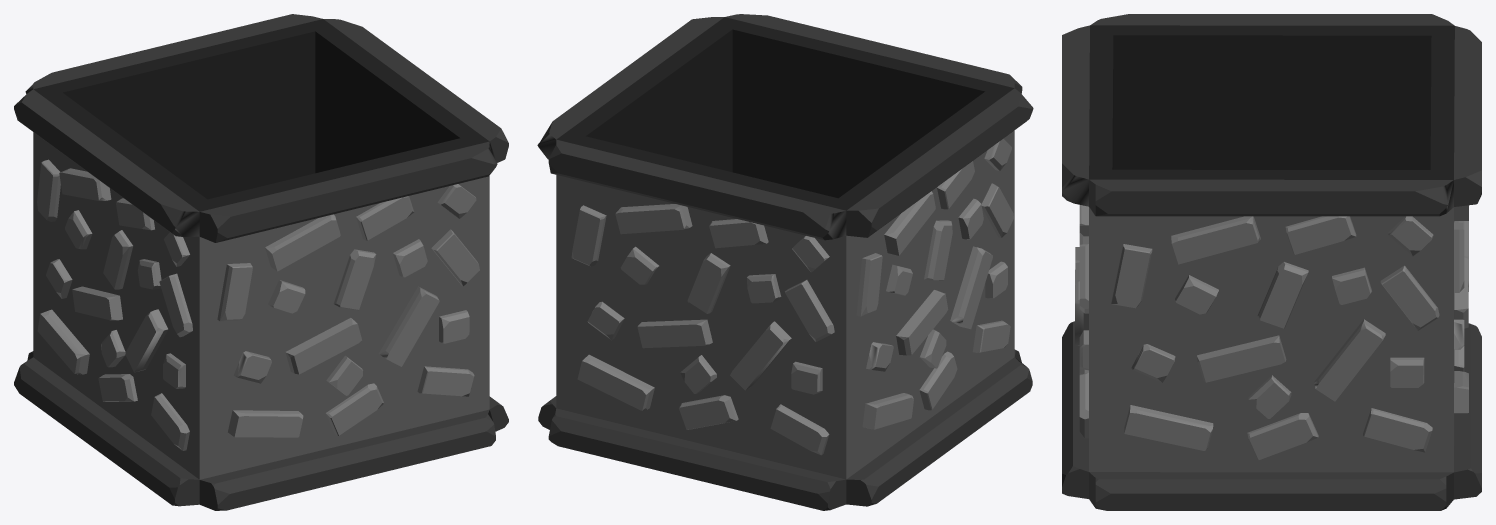
The model's file is DungeonWallBlock.glb.
3 views of the same model, side by side, from view 1: azimuth 30°, elevation 25°; view 2: azimuth 150°, elevation 25°; view 3: azimuth 270°, elevation 25° (orthographic). The views are drawn at different scales.
Visible parts, largest first — view 1: Cube.001; view 2: Cube.001; view 3: Cube.001.
Boxes of the visible parts, left/top/right/bottom form: Cube.001: left=14, top=14, right=508, bottom=510; Cube.001: left=537, top=14, right=1033, bottom=510; Cube.001: left=1062, top=14, right=1481, bottom=510.
Size of the model in its own units: 2.38 by 2 by 2.38.
1 material, 1 textured.
